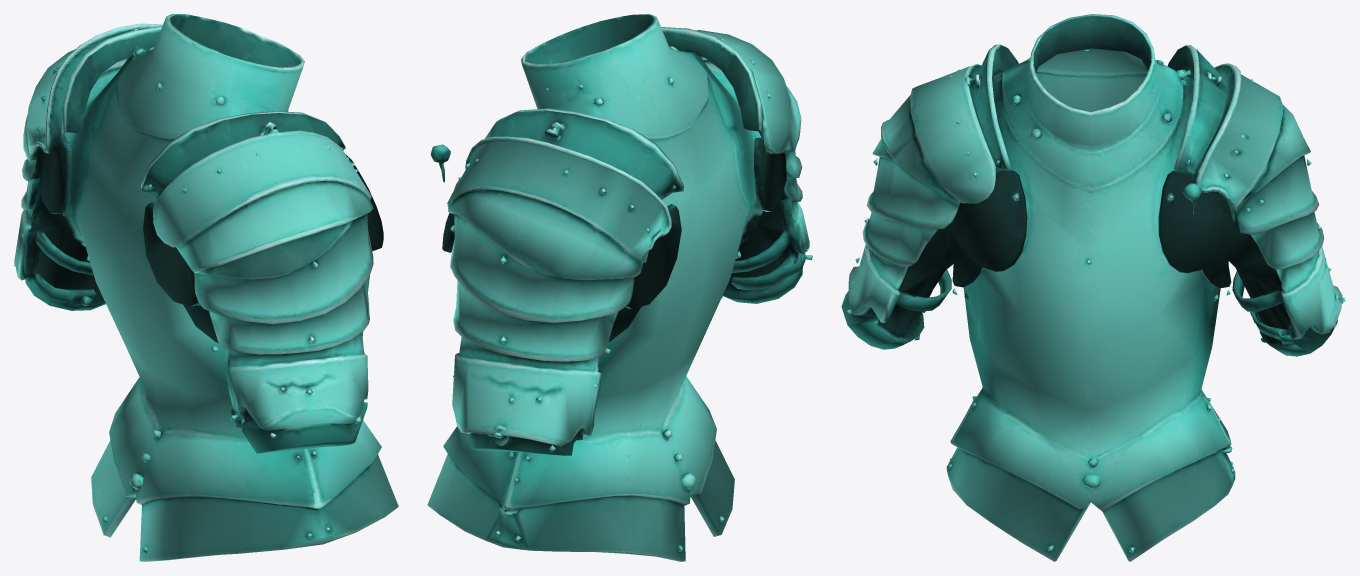
Rendered from runeforged_platebody.glb.
3 renders of one model, left to right at view 1: azimuth 30°, elevation 25°; view 2: azimuth 150°, elevation 25°; view 3: azimuth 270°, elevation 25°, orthographic. The views are drawn at different scales.
Parts seen in each view (by area): view 1: tripo_node_bc80c6f8-d932-48cd-8371-e106c18d9efe; view 2: tripo_node_bc80c6f8-d932-48cd-8371-e106c18d9efe; view 3: tripo_node_bc80c6f8-d932-48cd-8371-e106c18d9efe.
Boxes of the visible parts, box(x1,y1,x2,y2) form: tripo_node_bc80c6f8-d932-48cd-8371-e106c18d9efe: box(14, 14, 398, 561); tripo_node_bc80c6f8-d932-48cd-8371-e106c18d9efe: box(427, 14, 812, 561); tripo_node_bc80c6f8-d932-48cd-8371-e106c18d9efe: box(841, 14, 1345, 561).
Size of the model in its own units: 0.5488 by 0.998 by 0.9746.
1 material, 1 textured.
